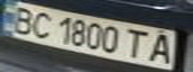0: (100, 24, 124, 55), (84, 20, 106, 52)
1: (51, 15, 72, 44)
8: (66, 16, 87, 47)
A: (145, 30, 178, 64)
B: (3, 3, 39, 34)
C: (27, 9, 57, 39)
T: (124, 26, 154, 61)
